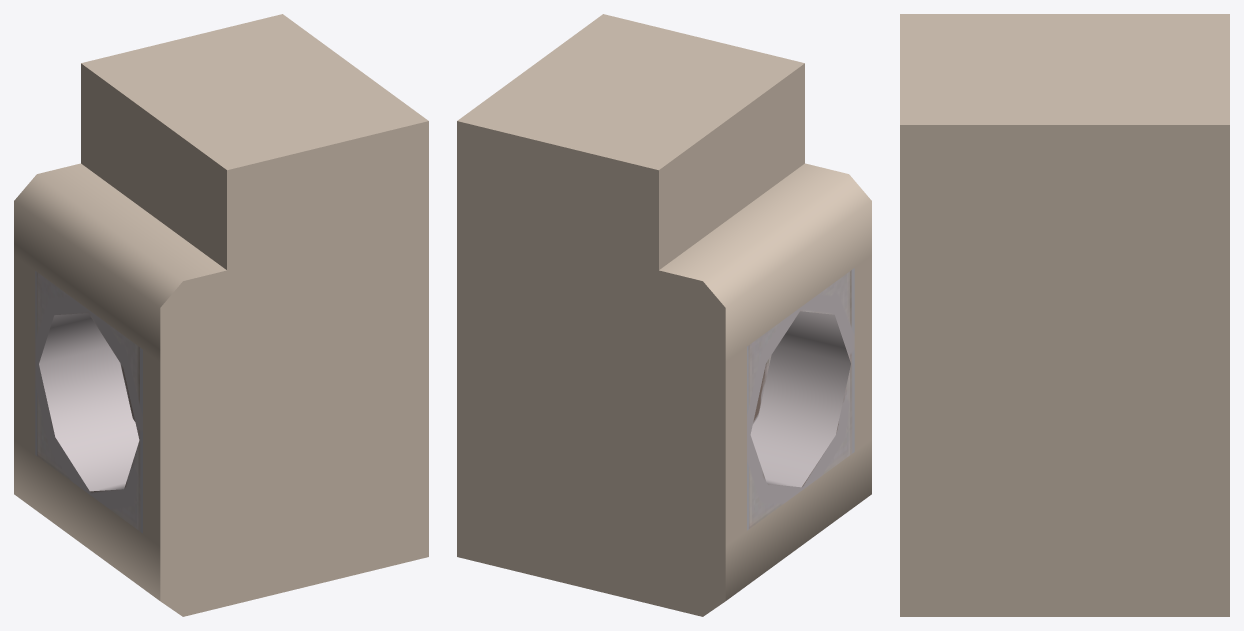
File: Розетка в стене.fbx
3 views of the same model, side by side, from view 1: azimuth 30°, elevation 25°; view 2: azimuth 150°, elevation 25°; view 3: azimuth 270°, elevation 25° (orthographic). The views are drawn at different scales.
Parts seen in each view (by area): view 1: Розетка_в_стене; view 2: Розетка_в_стене; view 3: Розетка_в_стене.
Boxes of the visible parts, x1,y1,x2,y2 form: Розетка_в_стене: (14,14,428,616); Розетка_в_стене: (457,14,871,616); Розетка_в_стене: (900,14,1229,616).
Bounding box in the file's own units: 6.88 × 10.67 × 6.49.
Materials: 1 (1 with a texture image).
